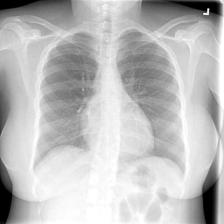normal: (27, 26, 192, 182)
